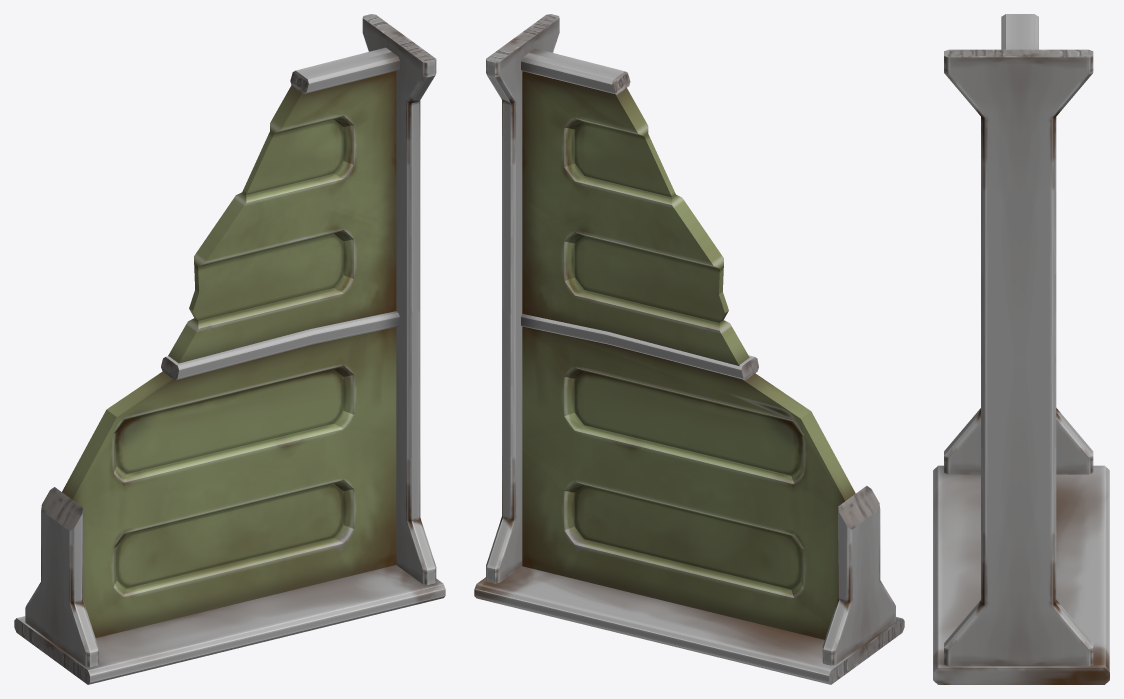
File: HubWallDestroyed.FBX
The picture shows the model from 3 angles, left to right: view 1: azimuth 30°, elevation 25°; view 2: azimuth 150°, elevation 25°; view 3: azimuth 270°, elevation 25°; orthographic projection. The views are drawn at different scales.
Visible parts, largest first — view 1: Wall_destroyed; view 2: Wall_destroyed; view 3: Wall_destroyed.
Part boxes in pixels (box(x1,y1,x2,y2)): Wall_destroyed: box(14, 14, 445, 684); Wall_destroyed: box(474, 14, 904, 684); Wall_destroyed: box(933, 14, 1109, 684).
Bounding box in the file's own units: 5.24 × 7.57 × 1.94.
